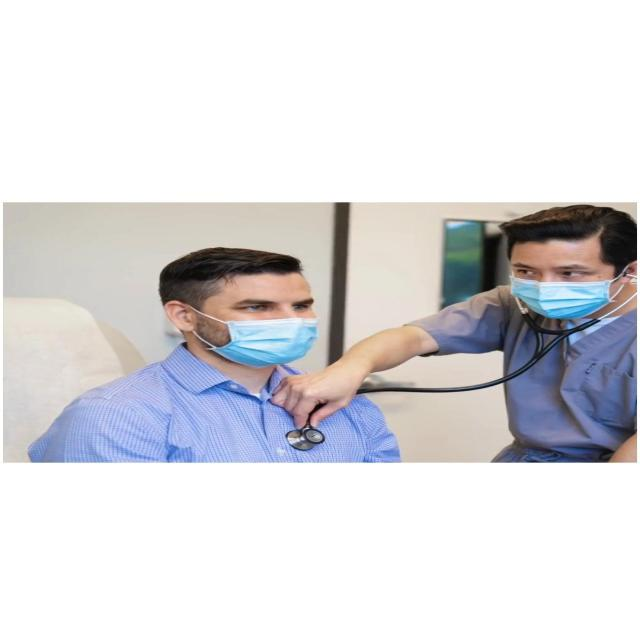Mask: (175, 264, 323, 367), (510, 231, 630, 323)
